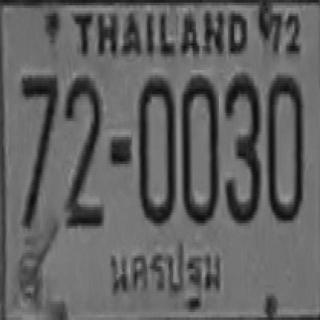N00: (137, 74, 174, 222), (181, 72, 217, 220), (266, 73, 302, 218)
N02: (63, 74, 101, 225)
N03: (224, 72, 259, 220)
N07: (20, 73, 57, 226)
P28: (104, 237, 227, 312)
